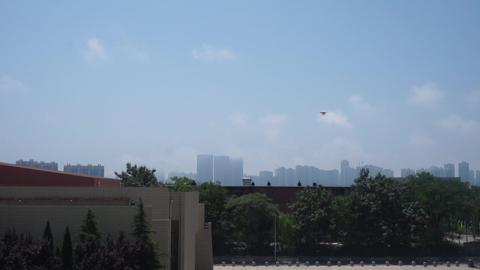UAV: (318, 112, 330, 116)
